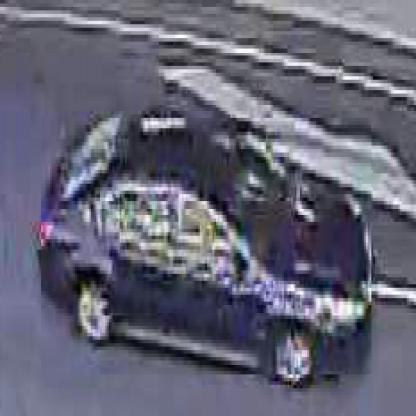car: (41, 119, 373, 379)
